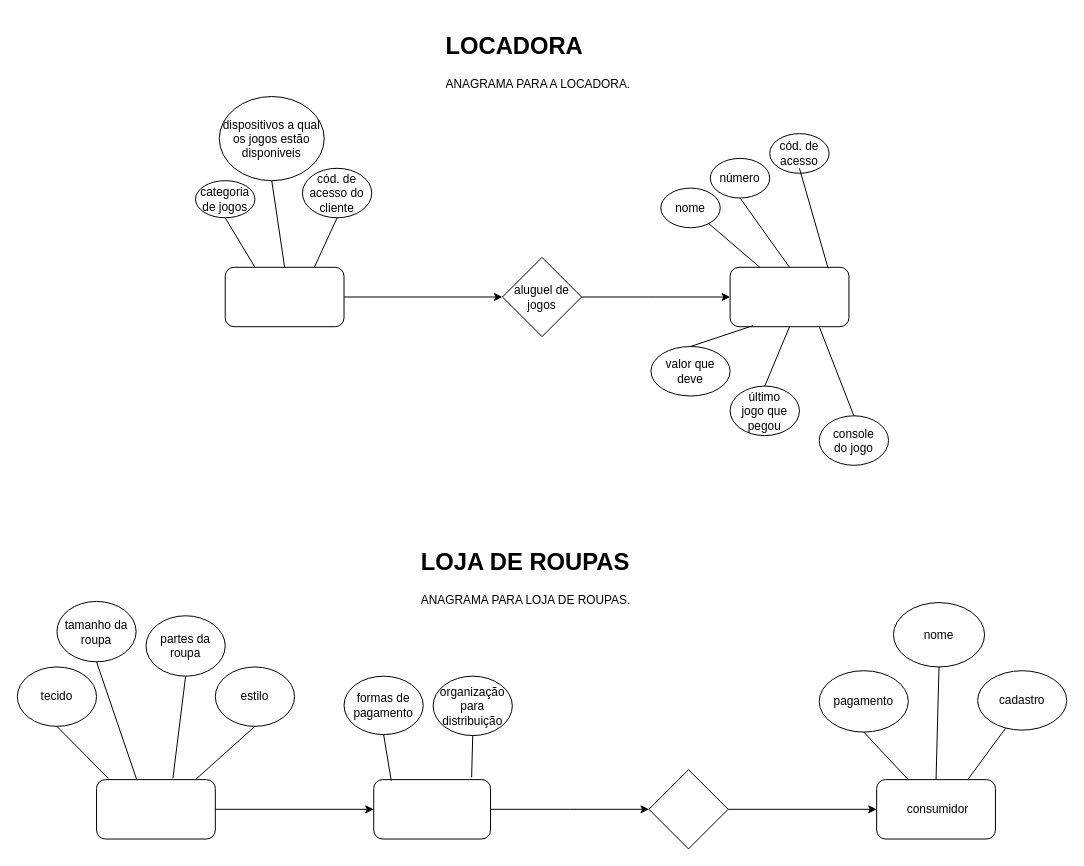
This 1084x866 diagram has some shape labels left out. Here are the shapes that lost their labels. From the top down, the centre of each, then its label:
At point 284,296: "locadora".
At point 789,296: "cliente".
At point 155,809: "roupas".
At point 432,809: "loja".
At point 688,809: "estoque".
